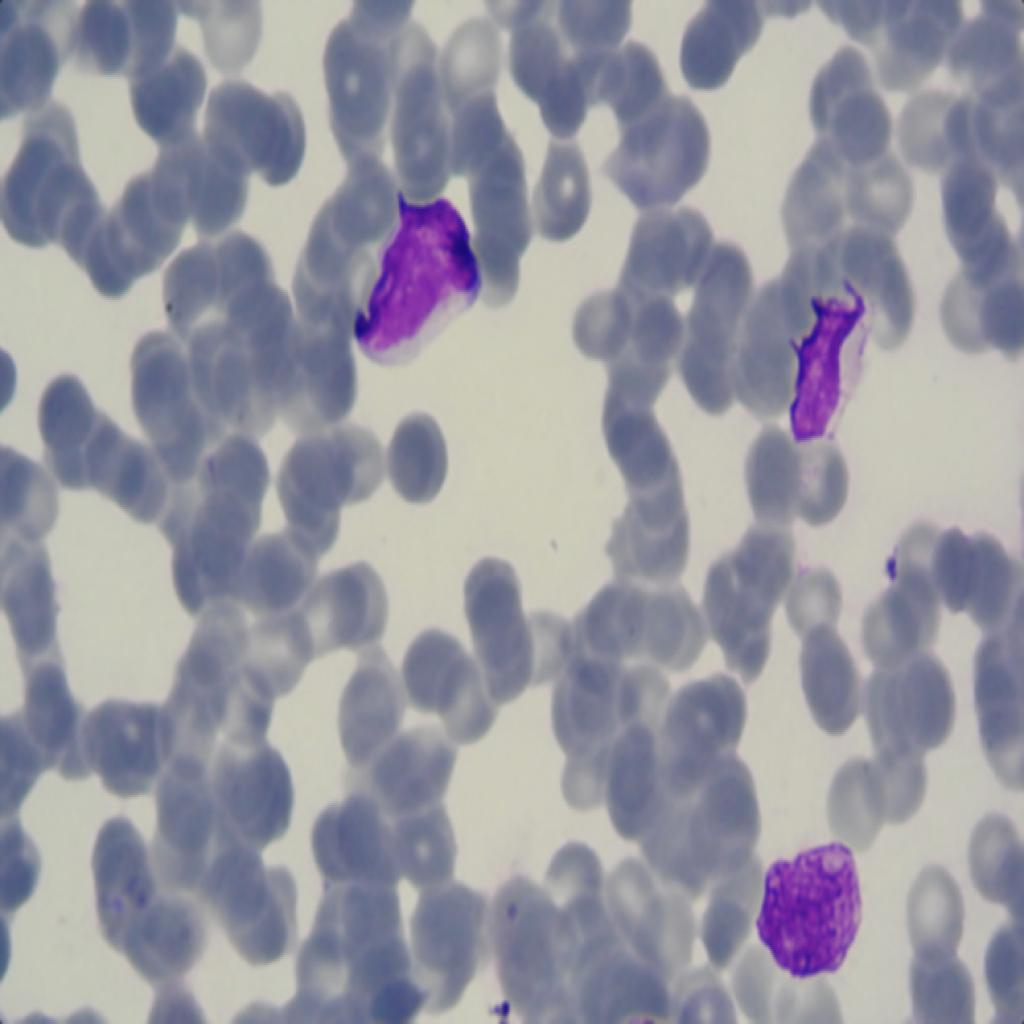Myeoblast: (347, 183, 481, 375), (751, 821, 856, 996), (768, 272, 872, 448)
Platelet: (875, 542, 914, 604)
